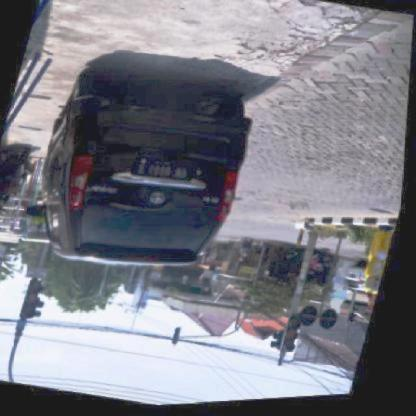Traffic Light -Yellow-: (23, 278, 49, 322), (285, 318, 309, 358)
